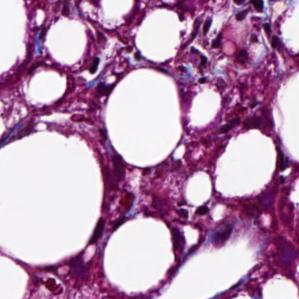inflammation: (176, 12, 225, 61)
